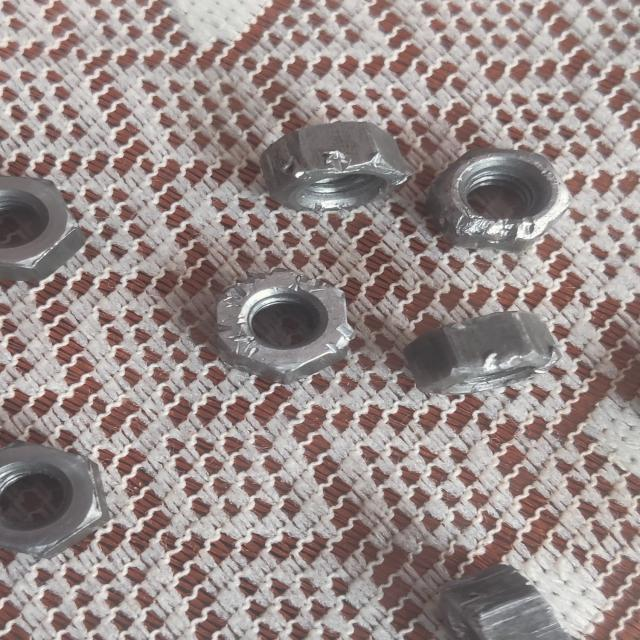disinfected nut: (0, 442, 110, 558), (0, 175, 87, 280)
infected nut: (217, 270, 353, 382), (427, 148, 570, 252), (260, 122, 413, 212), (403, 312, 557, 395), (440, 565, 570, 640)
